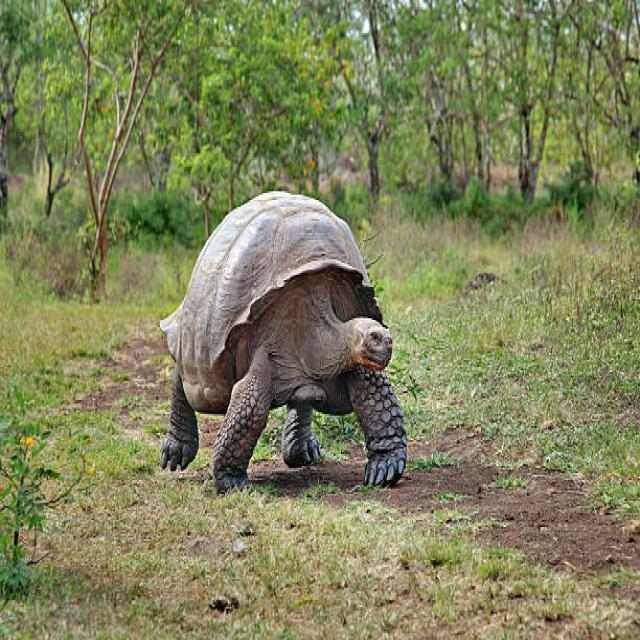tortoise: (183, 167, 378, 320), (343, 360, 418, 505), (307, 277, 396, 385), (212, 352, 272, 504), (278, 378, 328, 487), (158, 362, 204, 478)
